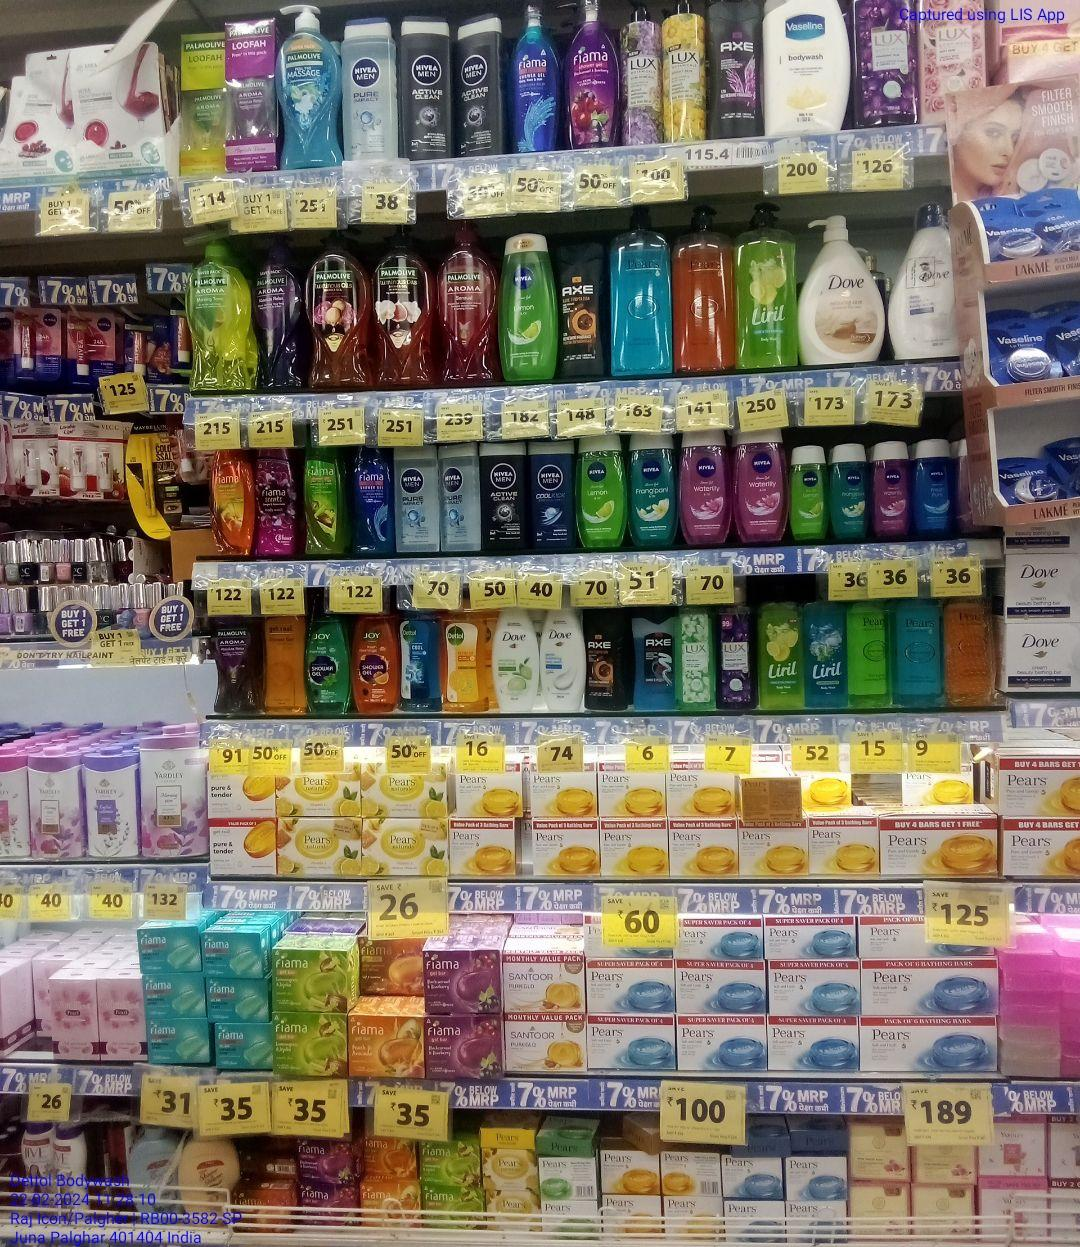Dettol_Bodywash_Cool: (400, 610, 442, 712)
Dettol_Bodywash_Refresh: (445, 607, 489, 715)
Dove_Gentle_Exfoliating_Body_Wash_250ML: (542, 607, 583, 713)
Dove_Refreshing_Body_Wash_250ML: (492, 607, 541, 714)
Fiama_Shower_Gel_Lemongrass_and_Jojoba_250ML: (303, 443, 350, 556)
Fiama_Shower_Gel_Peach_and_Avocado_250ML: (213, 446, 254, 557)
Get_Real_Shower_Gel_Moisturising_Glycerin_300ML: (264, 613, 305, 714)
Joy_Shower_Gel_Mandarin_and_Lemongrass_250ML: (353, 608, 399, 710)
Joy_Shower_Gel_Mint_and_Eucalyptus_250ML: (308, 602, 351, 714)
Liril_Cooling_Mint_Body_Wash_250ML: (804, 583, 847, 706)
Liril_Lime_and_Tea_Tree_Oil_Body_Wash_250ML: (759, 589, 802, 709)
Lux_Black_Orchid_Scent_and_Juniper_Oil_Body_Wash_245ML: (718, 599, 757, 710)
Lux_Body_Wash_Skin_Detox_Freesia_Scent_and_Alove_Vera_245ML: (675, 605, 716, 710)
Nivea_Shower_Gel_Frangipani_and_Oil_250ML: (632, 431, 677, 546)
Nivea_Shower_Gel_Lemon_and_Oil_250ML: (498, 234, 557, 381), (577, 436, 627, 549)
Nivea_Shower_Gel_Waterlily_and_Oil_250ML: (734, 426, 789, 543), (681, 432, 731, 544)
Palmolive_Aroma_Relax_250ML: (213, 616, 260, 712)
Pears_Pure_Glycerin_and_Lemon_Flower_Extracts_Body_Wash_250ML: (849, 599, 891, 708)
Pears_Pure_Glycerin_and_Mint_Extracts_Body_Wash_250ML: (895, 595, 943, 708)
